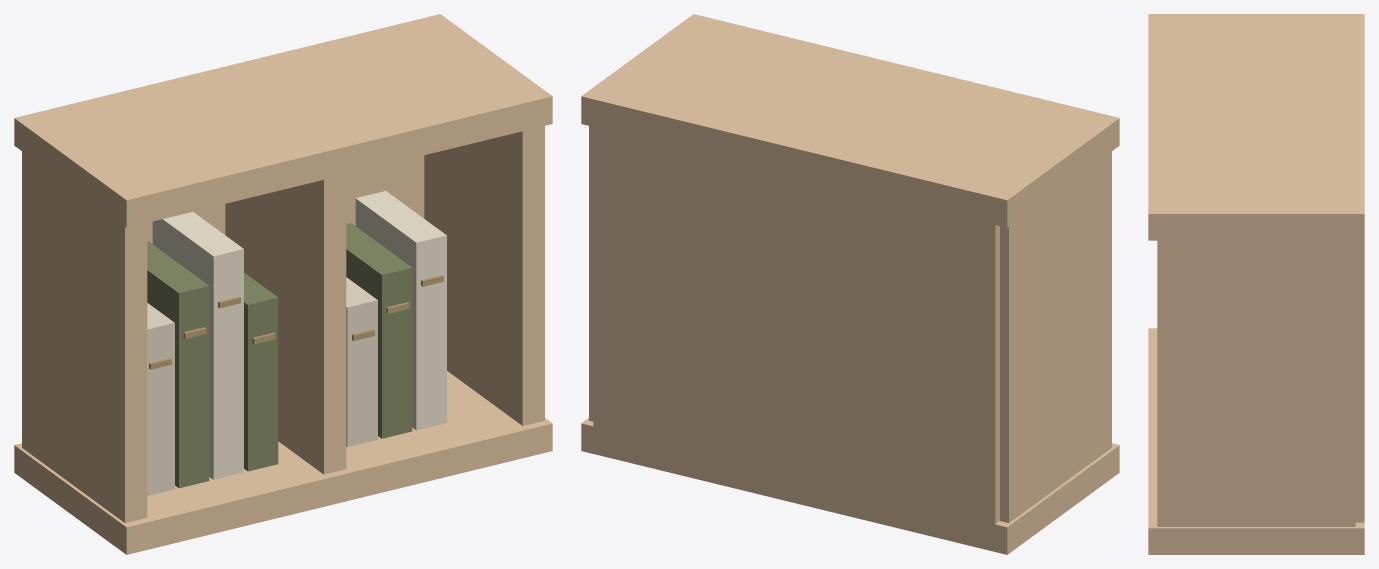
File: living_ref_bookcase.glb
3 views of the same model, side by side, from view 1: azimuth 30°, elevation 25°; view 2: azimuth 150°, elevation 25°; view 3: azimuth 270°, elevation 25° (orthographic). The views are drawn at different scales.
Bounding box in the file's own units: 1.05 × 0.835 × 0.48.
